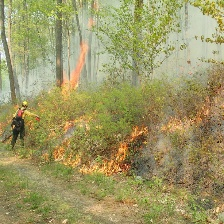fire: (50, 120, 146, 175), (62, 40, 92, 95)
smoke: (91, 11, 223, 80), (8, 49, 57, 98)
